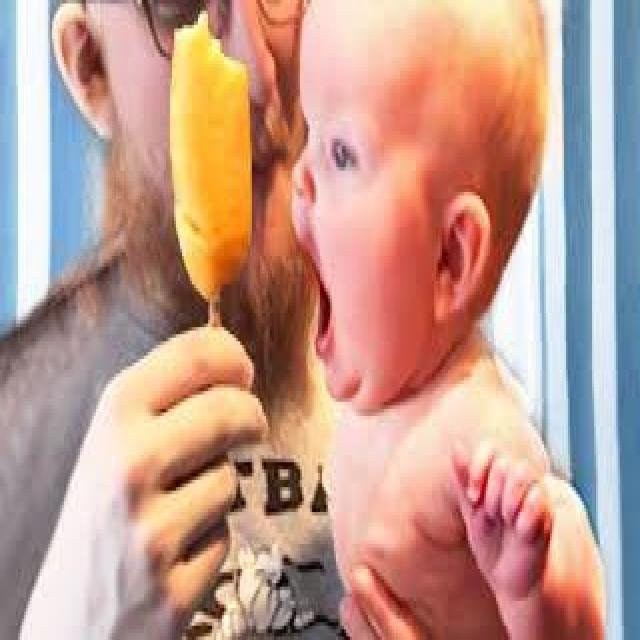child: (20, 7, 604, 637)
